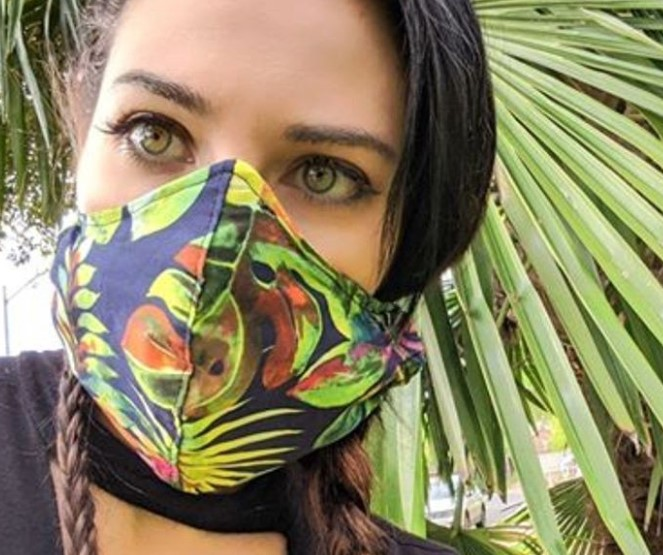face_with_mask: (45, 6, 477, 495)
